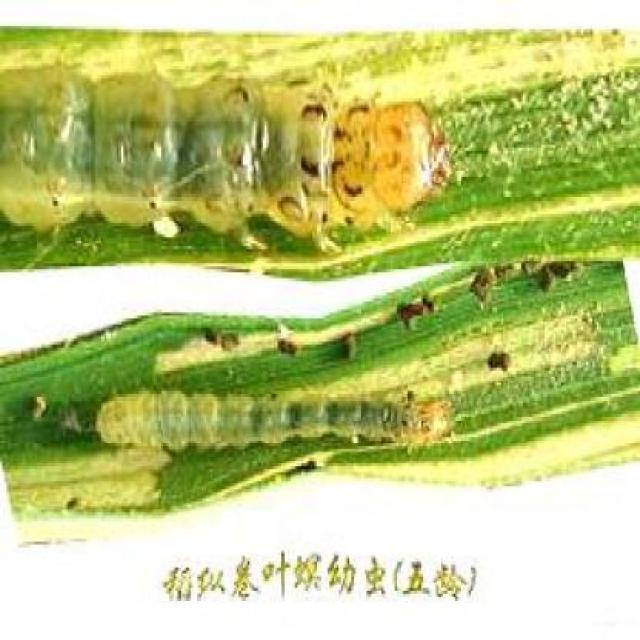leaf-folder: (0, 32, 460, 274), (94, 366, 469, 476)
